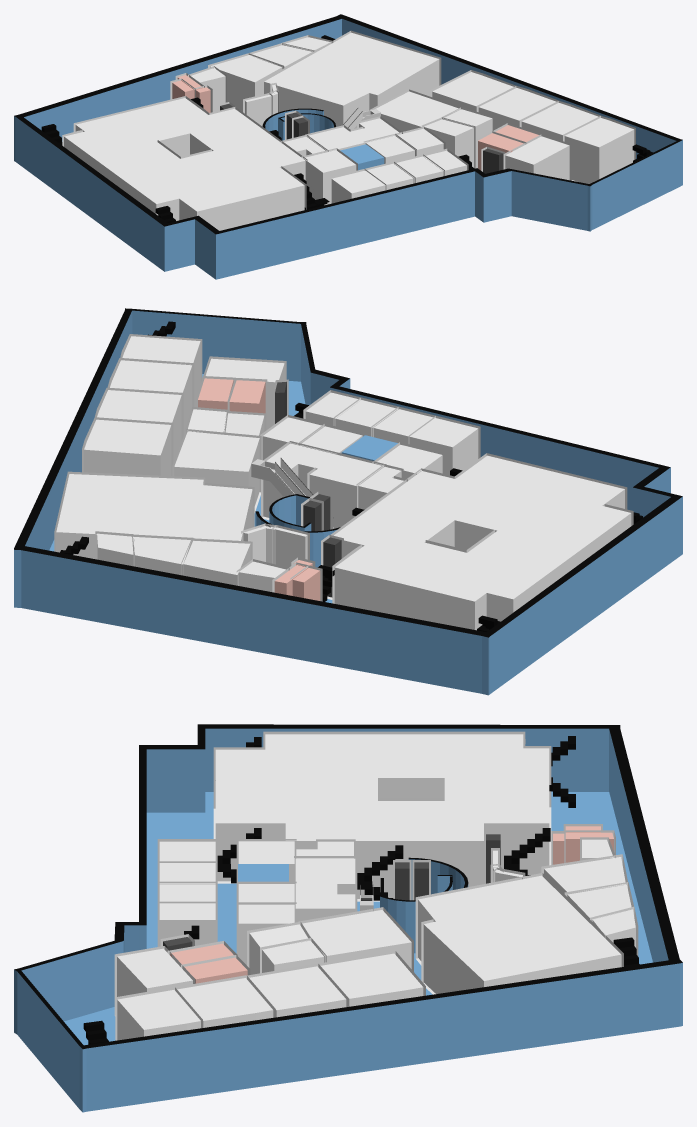
The picture shows the model from 3 angles, top to bottom: view 1: azimuth 30°, elevation 25°; view 2: azimuth 150°, elevation 25°; view 3: azimuth 270°, elevation 25°; orthographic projection. The views are drawn at different scales.
Visible parts, largest first — view 1: object, room_9_4_21, object_line.026, room_9_4_3, room_9_4_19, room_9_4_20, room_9_4_11, room_9_4_15, room_9_4_14, room_9_4_16, room_9_4_17, room_9_4_18 (+16 smaller); view 2: object, object_line.026, room_9_4_21, room_9_4_3, room_9_4_16, room_9_4_10, room_9_4_14, room_9_4_15, room_9_4_17, room_9_4_18, room_9_4_11, room_9_4_19 (+20 smaller); view 3: object, room_9_4_21, object_line.026, room_9_4_3, room_9_4_14, room_9_4_10, room_9_4_16, room_9_4_17, room_9_4_19, room_9_4_18, room_9_4_20, room_9_4_15 (+21 smaller).
Part boxes in pixels (bbox=[...]): object: bbox=[14, 14, 682, 279]; room_9_4_21: bbox=[64, 98, 305, 230]; object_line.026: bbox=[62, 96, 307, 209]; room_9_4_3: bbox=[264, 32, 439, 126]; room_9_4_19: bbox=[564, 118, 634, 183]; room_9_4_20: bbox=[505, 136, 569, 180]; room_9_4_11: bbox=[210, 55, 282, 111]; room_9_4_15: bbox=[331, 163, 413, 203]; room_9_4_14: bbox=[376, 91, 460, 131]; room_9_4_16: bbox=[432, 72, 513, 111]; room_9_4_17: bbox=[478, 88, 556, 129]; room_9_4_18: bbox=[521, 103, 598, 140]; object: bbox=[14, 308, 682, 695]; object_line.026: bbox=[329, 453, 633, 629]; room_9_4_21: bbox=[334, 470, 631, 630]; room_9_4_3: bbox=[56, 474, 252, 559]; room_9_4_16: bbox=[84, 419, 171, 475]; room_9_4_10: bbox=[263, 443, 384, 528]; room_9_4_14: bbox=[174, 431, 259, 505]; room_9_4_15: bbox=[373, 409, 478, 475]; room_9_4_17: bbox=[97, 390, 181, 462]; room_9_4_18: bbox=[110, 360, 192, 435]; room_9_4_11: bbox=[183, 540, 250, 585]; room_9_4_19: bbox=[122, 336, 200, 406]; object: bbox=[14, 724, 682, 1112]; room_9_4_21: bbox=[215, 734, 549, 898]; object_line.026: bbox=[213, 731, 551, 901]; room_9_4_3: bbox=[418, 875, 621, 993]; room_9_4_14: bbox=[300, 910, 411, 968]; room_9_4_10: bbox=[295, 858, 355, 922]; room_9_4_16: bbox=[321, 953, 423, 1006]; room_9_4_17: bbox=[249, 966, 346, 1017]; room_9_4_19: bbox=[117, 990, 200, 1040]; room_9_4_18: bbox=[177, 978, 273, 1027]; room_9_4_20: bbox=[117, 948, 192, 996]; room_9_4_15: bbox=[159, 841, 215, 884].
Bounding box in the file's own units: 2.05 × 0.2418 × 1.78.
